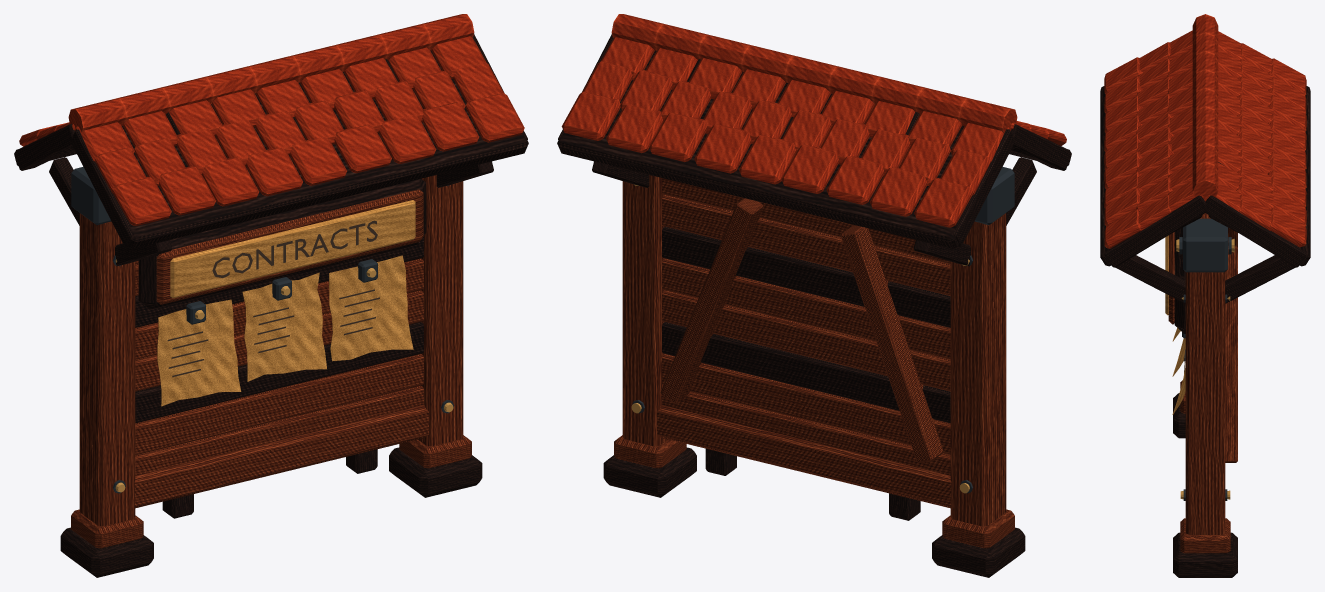
Rendered from quest-board.glb.
The picture shows the model from 3 angles, left to right: view 1: azimuth 30°, elevation 25°; view 2: azimuth 150°, elevation 25°; view 3: azimuth 270°, elevation 25°; orthographic projection. The views are drawn at different scales.
Visible parts, largest first — view 1: quest-board; view 2: quest-board; view 3: quest-board.
Boxes of the visible parts, <box> form: quest-board: <box>14,14,528,577</box>; quest-board: <box>557,14,1071,577</box>; quest-board: <box>1100,14,1310,577</box>.
Size of the model in its own units: 2.48 by 2.72 by 1.3.
7 materials, 4 textured.
